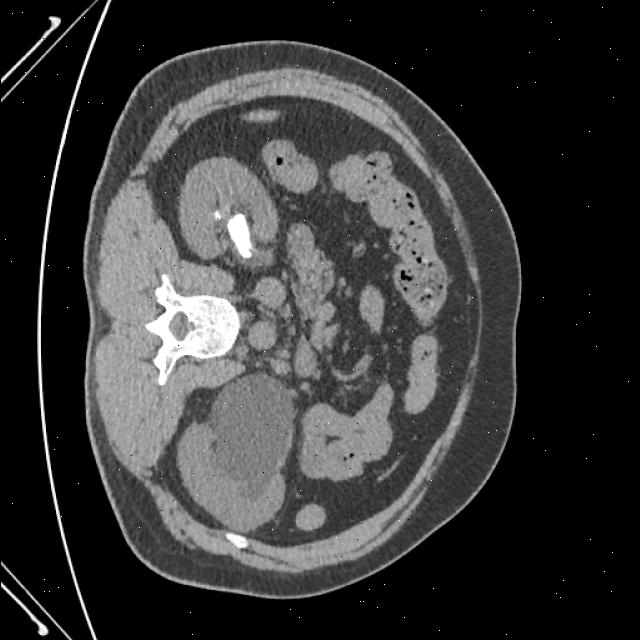kidneystone: (227, 214, 251, 259), (213, 211, 220, 219)
